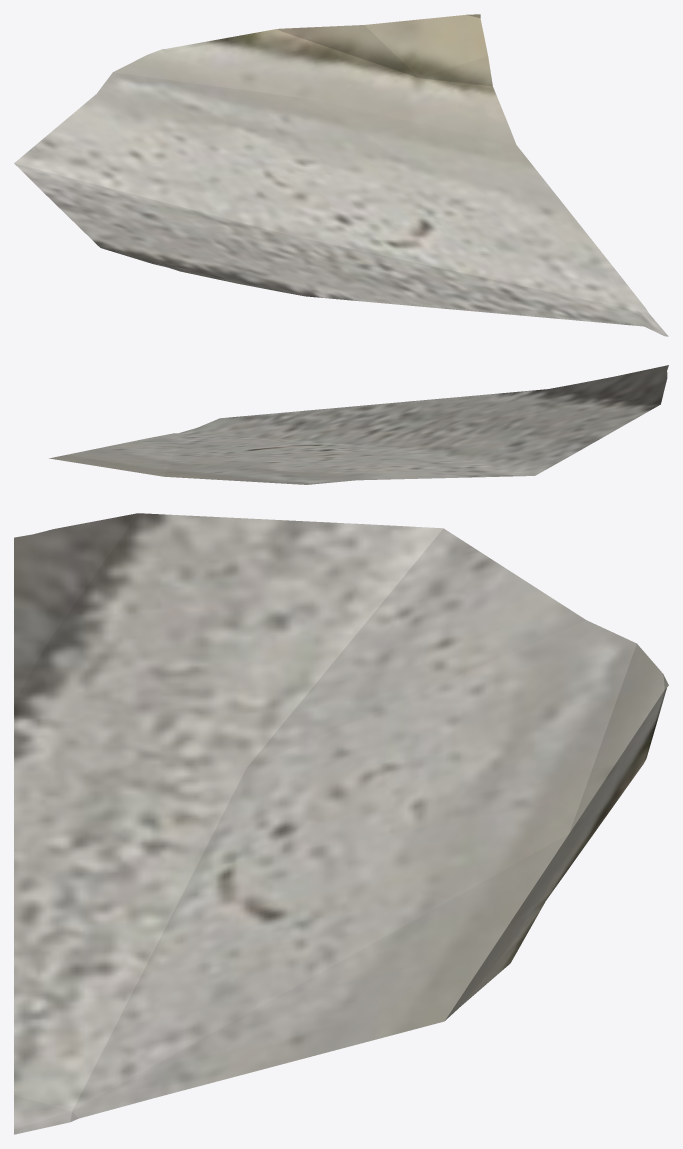
3 renders of one model, top to bottom at view 1: azimuth 30°, elevation 25°; view 2: azimuth 150°, elevation 25°; view 3: azimuth 270°, elevation 25°, orthographic. The views are drawn at different scales.
Size of the model in its own units: 0.5732 by 0.1928 by 0.4393.
1 material, 1 textured.
